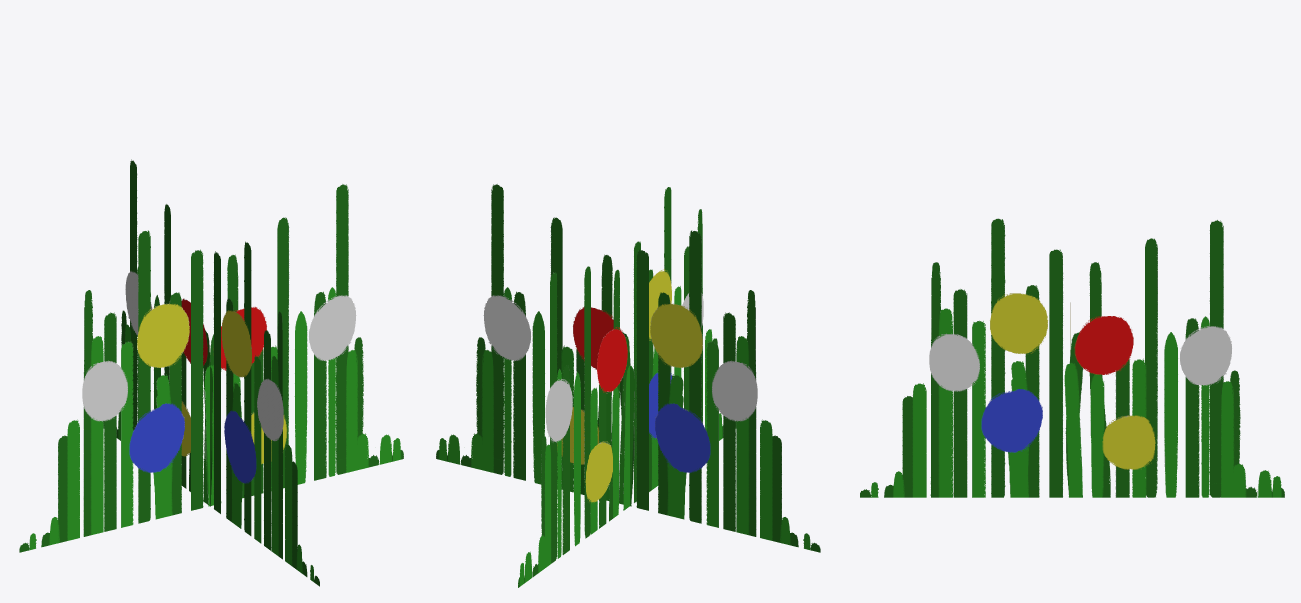
File: flower2.FBX
3 renders of one model, left to right at view 1: azimuth 30°, elevation 25°; view 2: azimuth 150°, elevation 25°; view 3: azimuth 270°, elevation 25°, orthographic. The views are drawn at different scales.
Parts seen in each view (by area): view 1: Plane037, Plane036; view 2: Plane037, Plane036; view 3: Plane036.
Boxes of the visible parts, x1=… form: Plane037: x1=19, y1=184, x2=403, y2=552; Plane036: x1=103, y1=159, x2=319, y2=586; Plane037: x1=436, y1=184, x2=820, y2=552; Plane036: x1=518, y1=187, x2=736, y2=587; Plane036: x1=860, y1=218, x2=1284, y2=497.
Size of the model in its own units: 79.82 by 79.82 by 79.82.
Materials: 1 (1 with a texture image).
